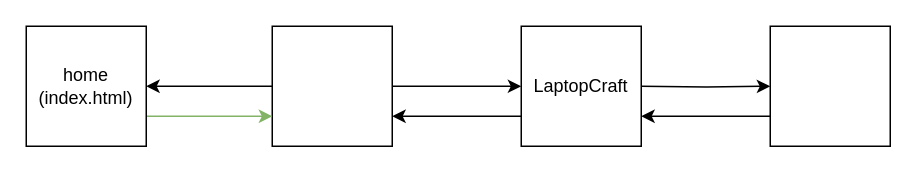
The diagram is 917 pixels wide and 173 high, and some of its shapes have lost their labels. The shapes that lost their labels are listed below. From the top down, each one's box as (x1, y1, x2, y2) in pixels, then its label:
(271, 25, 392, 146): Day Cycle Discord
(769, 25, 890, 146): Cozy Forest Theme
